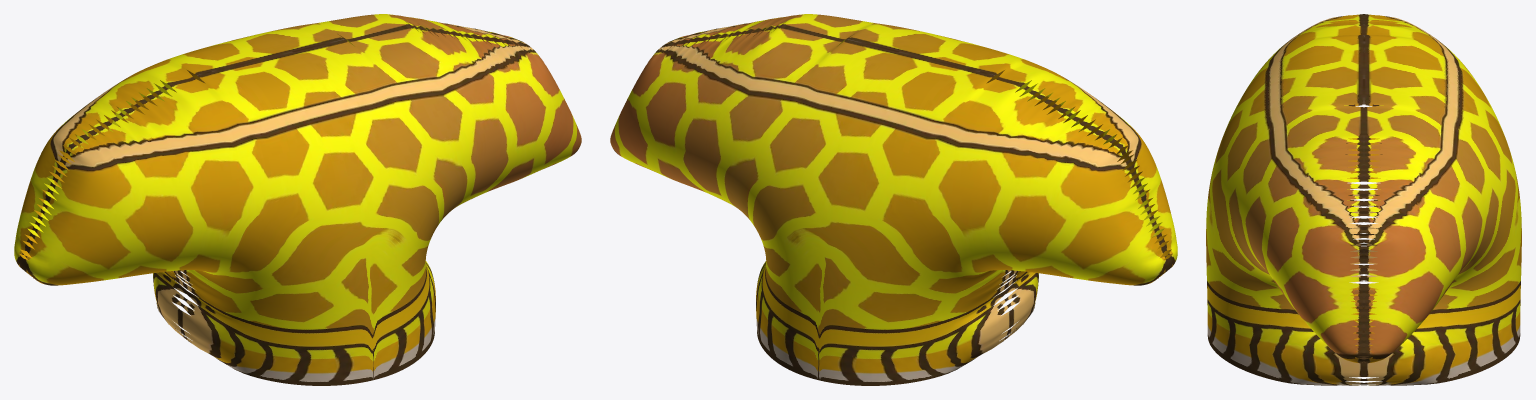
The model's file is honeycomb_canopy.glb.
3 views of the same model, side by side, from view 1: azimuth 30°, elevation 25°; view 2: azimuth 150°, elevation 25°; view 3: azimuth 270°, elevation 25° (orthographic). The views are drawn at different scales.
Parts seen in each view (by area): view 1: honeycomb_canopy; view 2: honeycomb_canopy; view 3: honeycomb_canopy.
Boxes of the visible parts, left/top/right/bottom form: honeycomb_canopy: left=14, top=14, right=581, bottom=385; honeycomb_canopy: left=610, top=14, right=1177, bottom=385; honeycomb_canopy: left=1206, top=14, right=1521, bottom=385.
Bounding box in the file's own units: 0.9888 × 0.458 × 0.5109.
Materials: 1 (1 with a texture image).
